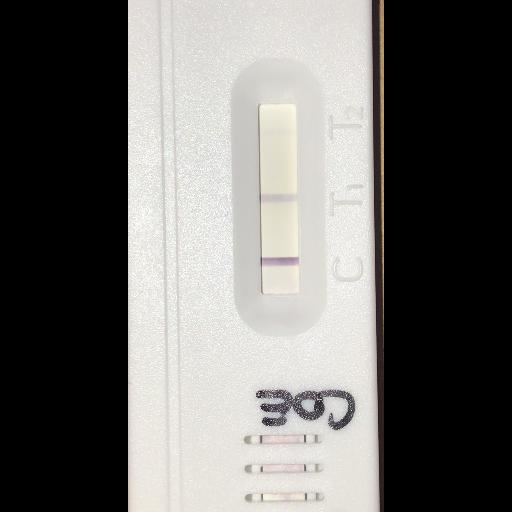Pos: (128, 0, 380, 504)
